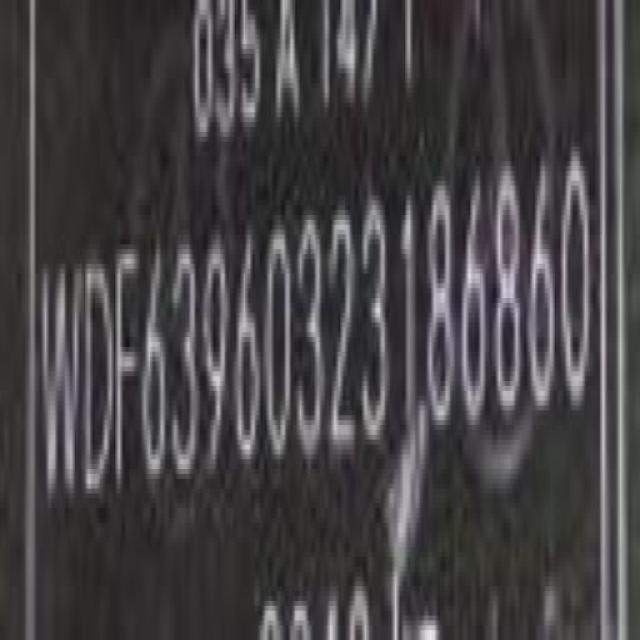0: (560, 148, 592, 412), (264, 222, 294, 470)
1: (399, 190, 422, 449)
2: (328, 204, 359, 462)
3: (362, 196, 392, 455), (172, 242, 202, 491), (298, 218, 327, 467)
6: (527, 157, 558, 419), (462, 173, 492, 432), (232, 230, 261, 478), (139, 239, 167, 492)
8: (494, 163, 526, 426), (426, 177, 457, 438)
9: (202, 236, 232, 484)
D: (82, 252, 115, 504)
F: (116, 244, 140, 494)
W: (40, 252, 86, 501)
